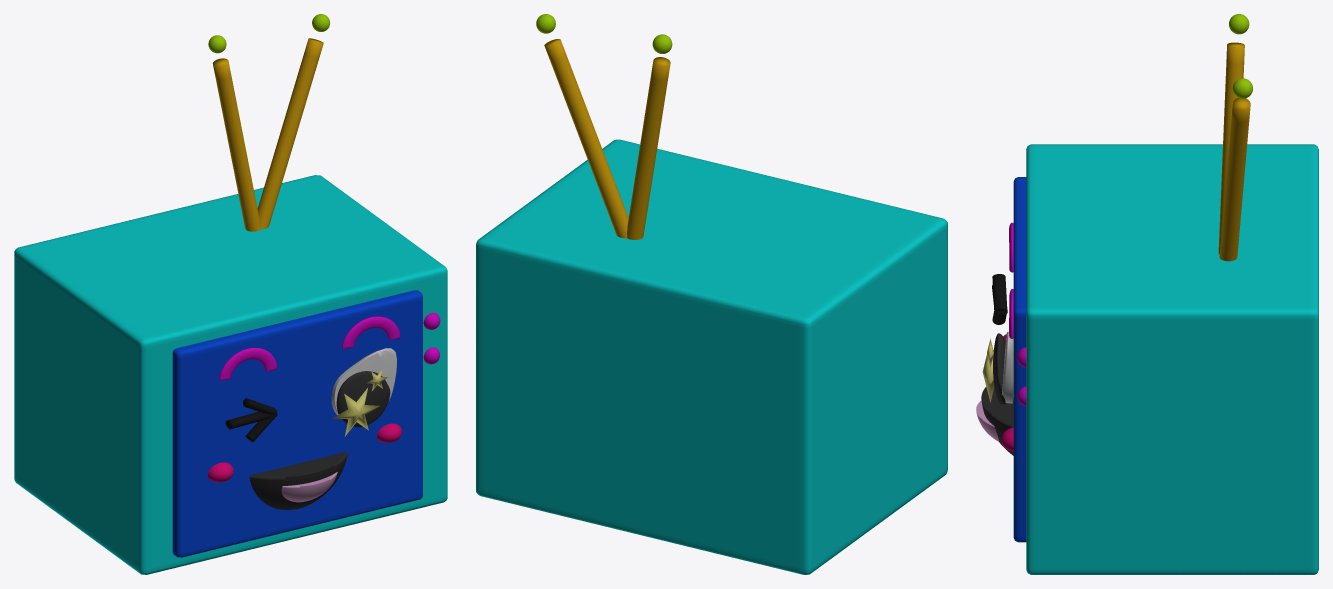
Rendered from tv_boi_cc.glb.
The picture shows the model from 3 angles, left to right: view 1: azimuth 30°, elevation 25°; view 2: azimuth 150°, elevation 25°; view 3: azimuth 270°, elevation 25°; orthographic projection. The views are drawn at different scales.
Size of the model in its own units: 2.5 by 3.35 by 2.14.
